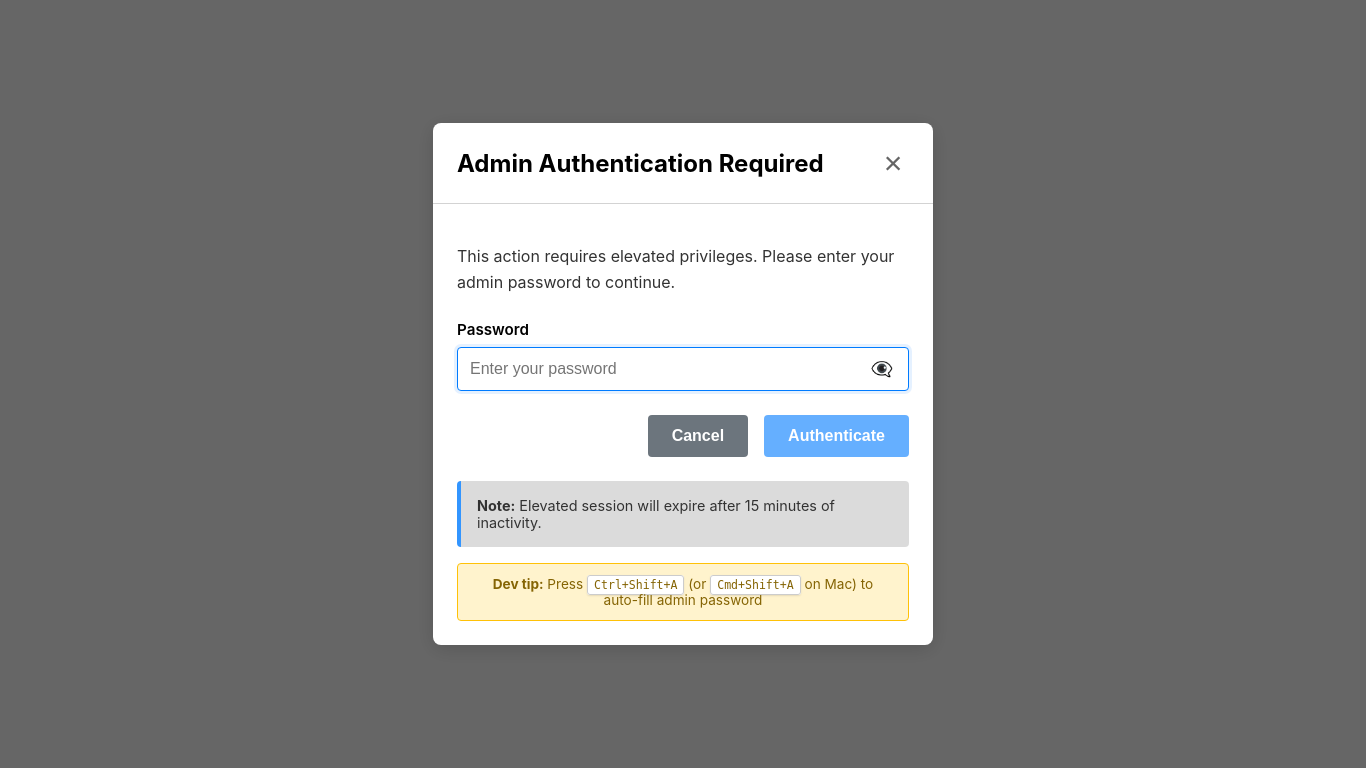
Test: AdminAuthModal › should display error message on authentication failure
This screenshot has width=1366, height=768.
Type "wrongpassword" into the password field labelled "Password".
click(683, 369); type("wrongpassword")  # box [457,347,909,391]
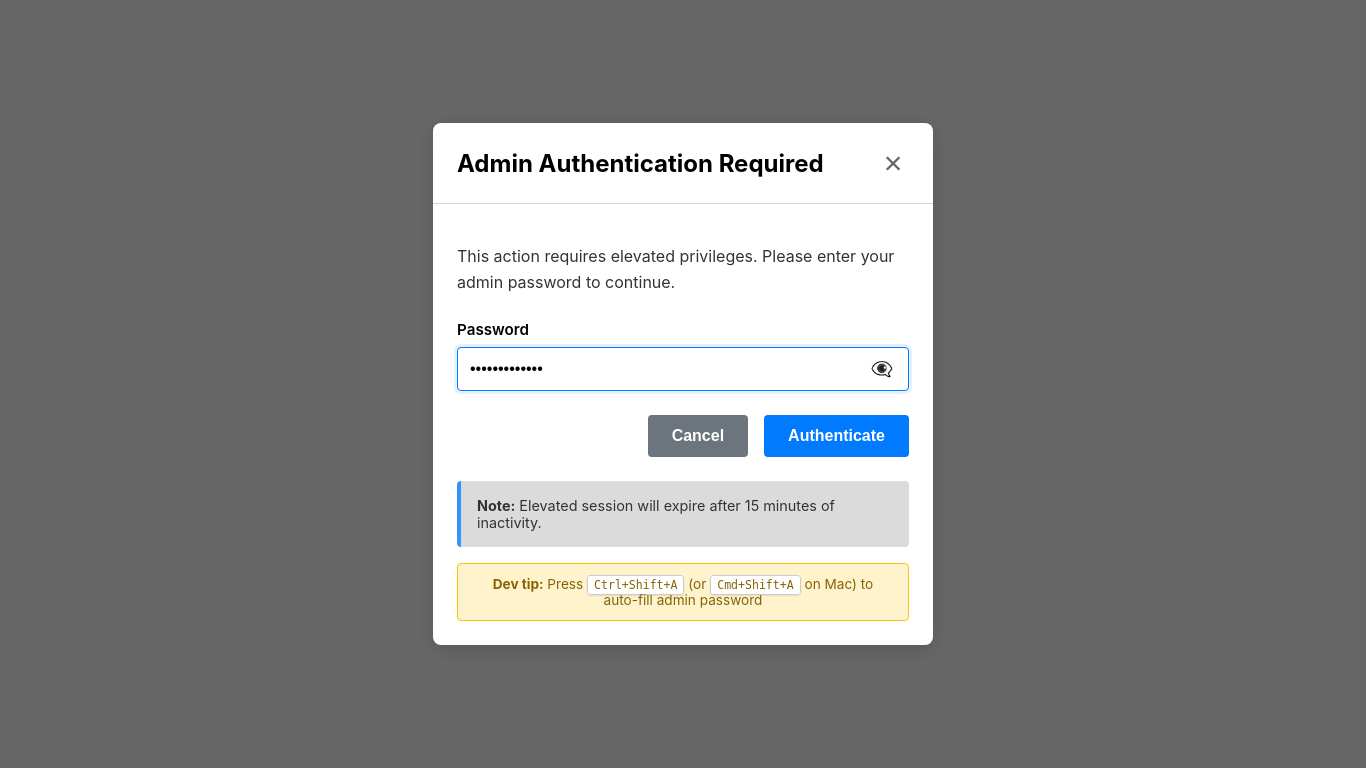
Click the button "Authenticate".
click(837, 436)  # box [764,415,909,457]
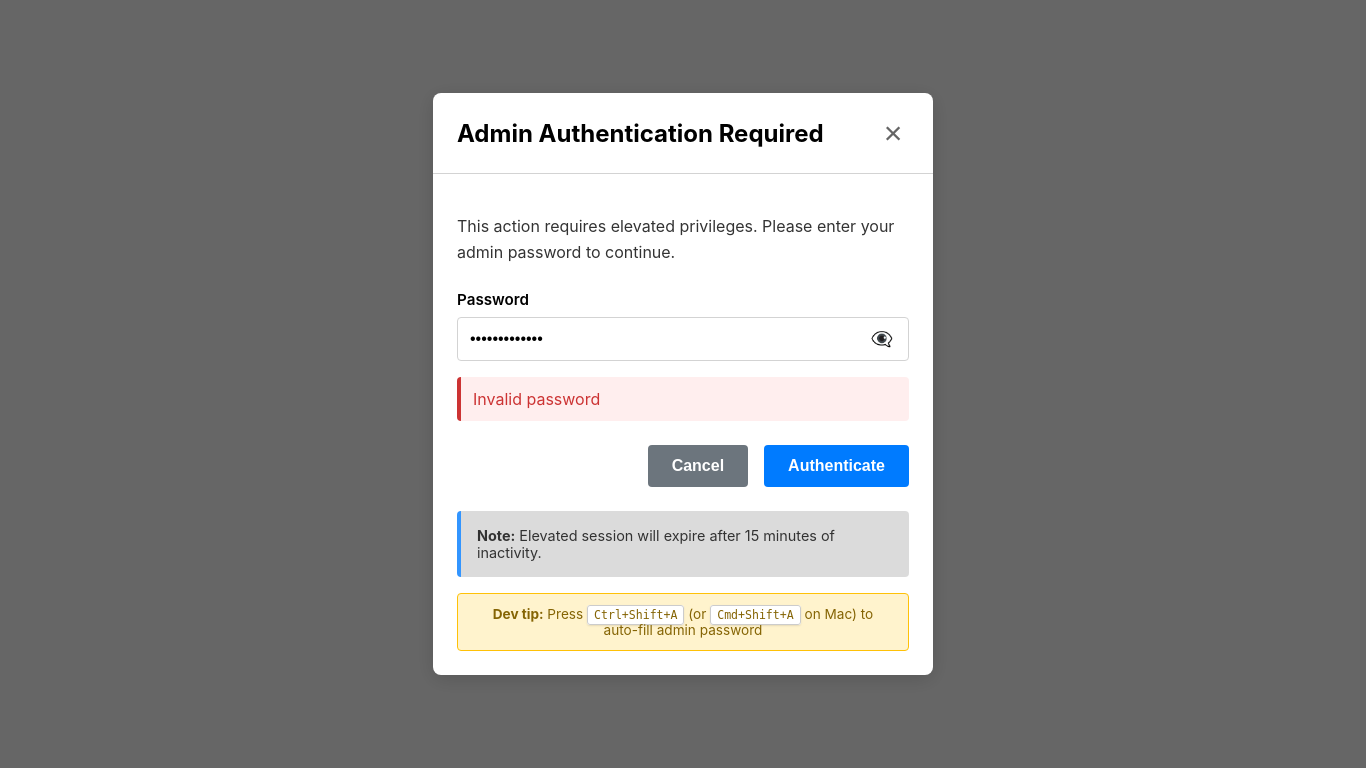
Expected: the text "Invalid password" is shown, [457,377,909,421]
